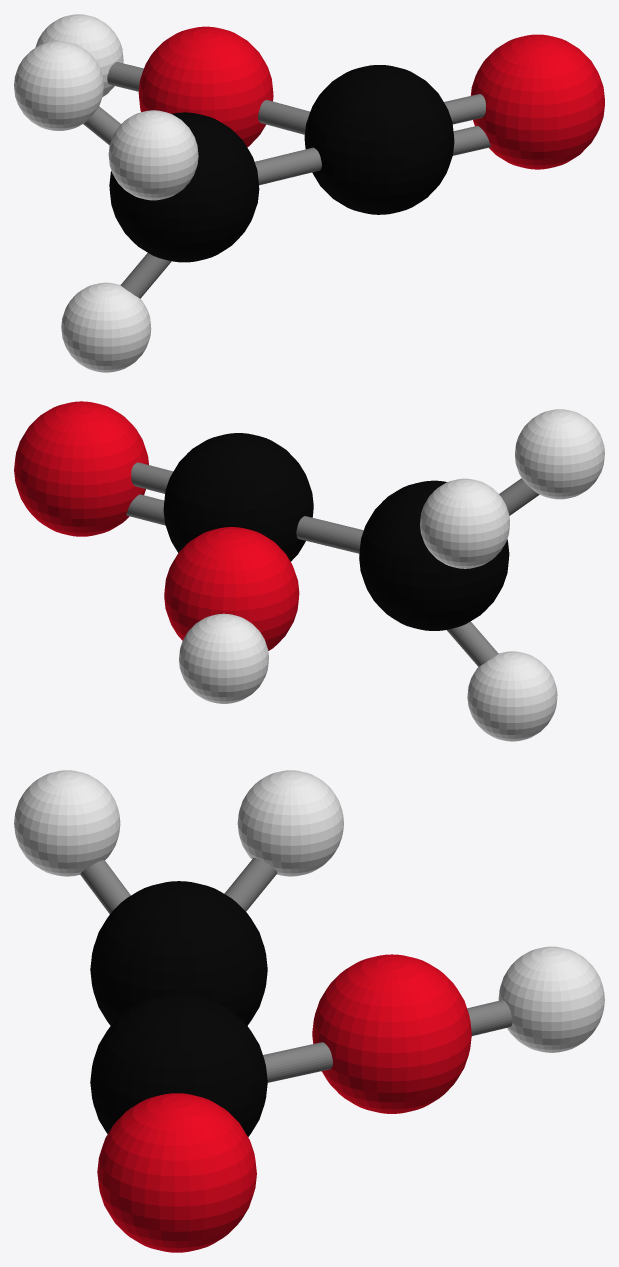
Rendered from CH3COOH.glb.
3 renders of one model, top to bottom at view 1: azimuth 30°, elevation 25°; view 2: azimuth 150°, elevation 25°; view 3: azimuth 270°, elevation 25°, orthographic. The views are drawn at different scales.
Visible parts, largest first — view 1: углерод 1, кислород двойной, Sphere, кислород двойной.001, Sphere.002, Sphere.001, Sphere.003, водорд 4, Cylinder.002, Cylinder.006, Cylinder.005, Cylinder (+3 smaller); view 2: кислород двойной, углерод 1, Sphere, кислород двойной.001, Sphere.002, Sphere.001, водорд 4, Sphere.003, Cylinder.002, Cylinder.005, Cylinder, Cylinder.001 (+1 smaller); view 3: кислород двойной, кислород двойной.001, Sphere, углерод 1, Sphere.002, Sphere.001, водорд 4, Cylinder.006, Cylinder.003, Cylinder.004, Cylinder.007.
Part boxes in pixels (left/top/right/bottom): углерод 1: left=304, top=65, right=454, bottom=214; кислород двойной: left=470, top=34, right=604, bottom=169; Sphere: left=109, top=112, right=259, bottom=262; кислород двойной.001: left=138, top=26, right=273, bottom=147; Sphere.002: left=108, top=110, right=198, bottom=200; Sphere.001: left=14, top=41, right=103, bottom=130; Sphere.003: left=61, top=282, right=151, bottom=372; водорд 4: left=35, top=14, right=123, bottom=96; Cylinder.002: left=254, top=147, right=321, bottom=185; Cylinder.006: left=258, top=100, right=309, bottom=134; Cylinder.005: left=120, top=253, right=171, bottom=298; Cylinder: left=444, top=94, right=485, bottom=124; кислород двойной: left=14, top=401, right=148, bottom=536; углерод 1: left=163, top=433, right=313, bottom=561; Sphere: left=359, top=480, right=509, bottom=630; кислород двойной.001: left=164, top=527, right=299, bottom=650; Sphere.002: left=515, top=409, right=604, bottom=499; Sphere.001: left=420, top=478, right=509, bottom=568; водорд 4: left=179, top=613, right=268, bottom=703; Sphere.003: left=467, top=651, right=557, bottom=741; Cylinder.002: left=296, top=516, right=363, bottom=553; Cylinder.005: left=447, top=621, right=498, bottom=666; Cylinder: left=131, top=462, right=173, bottom=493; Cylinder.001: left=126, top=494, right=165, bottom=525; кислород двойной: left=97, top=1093, right=256, bottom=1252; кислород двойной.001: left=312, top=954, right=471, bottom=1113; Sphere: left=90, top=881, right=267, bottom=1025; углерод 1: left=90, top=993, right=267, bottom=1136; Sphere.002: left=14, top=770, right=120, bottom=876; Sphere.001: left=237, top=770, right=343, bottom=876; водорд 4: left=498, top=946, right=604, bottom=1052; Cylinder.006: left=263, top=1042, right=332, bottom=1082; Cylinder.003: left=224, top=858, right=277, bottom=911; Cylinder.004: left=80, top=860, right=130, bottom=914; Cylinder.007: left=467, top=1000, right=512, bottom=1035.
Bounding box in the file's own units: 4.06 × 2.12 × 3.33.
